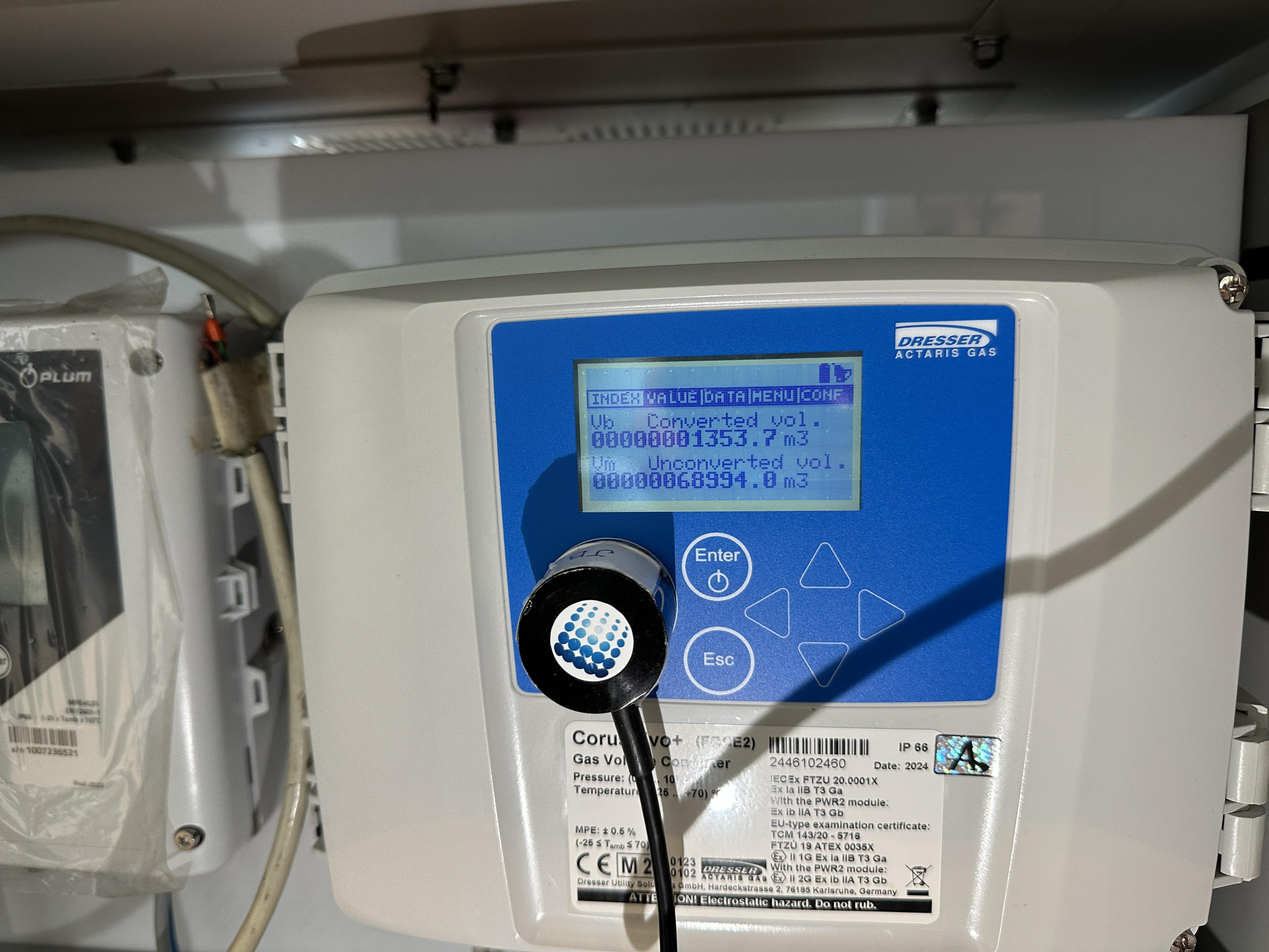digital_screen: (578, 357, 866, 517)
